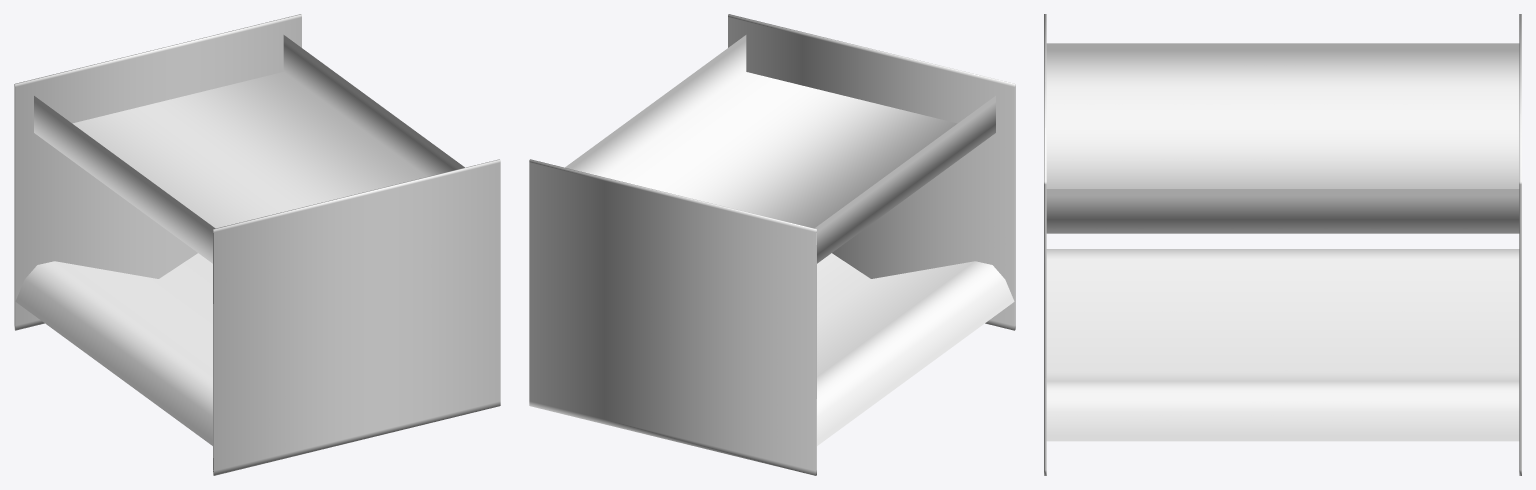
Rendered from Wastafel.fbx.
The picture shows the model from 3 angles, left to right: view 1: azimuth 30°, elevation 25°; view 2: azimuth 150°, elevation 25°; view 3: azimuth 270°, elevation 25°; orthographic projection. The views are drawn at different scales.
Parts seen in each view (by area): view 1: Cube.008; view 2: Cube.008; view 3: Cube.008.
Boxes of the visible parts, x1,y1,x2,y2 form: Cube.008: (14,14,500,475); Cube.008: (529,14,1015,475); Cube.008: (1044,14,1521,475).
Size of the model in its own units: 58.66 by 48.09 by 70.7.
